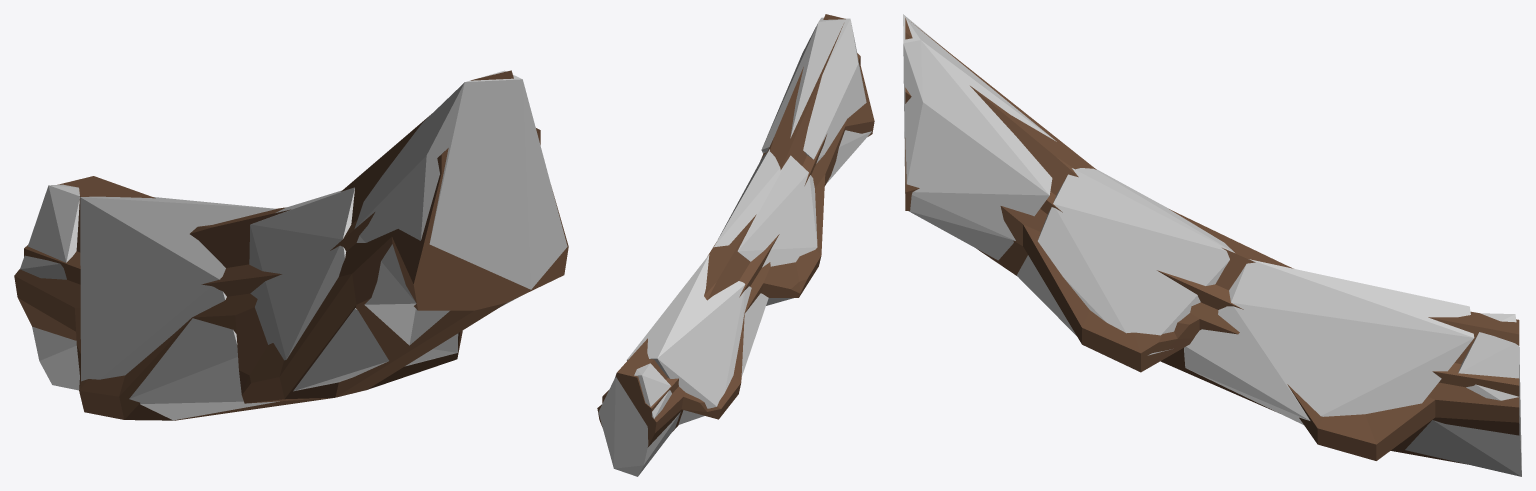
File: SM_Bld_Roof_Cap_Straight_Wood_Peak_01.fbx
The picture shows the model from 3 angles, left to right: view 1: azimuth 30°, elevation 25°; view 2: azimuth 150°, elevation 25°; view 3: azimuth 270°, elevation 25°; orthographic projection. The views are drawn at different scales.
Parts seen in each view (by area): view 1: SM_Bld_Roof_Cap_Straight_Wood_Peak_01_ConvexHulls, SM_Bld_Roof_Cap_Straight_Wood_Peak_01; view 2: SM_Bld_Roof_Cap_Straight_Wood_Peak_01_ConvexHulls, SM_Bld_Roof_Cap_Straight_Wood_Peak_01; view 3: SM_Bld_Roof_Cap_Straight_Wood_Peak_01_ConvexHulls, SM_Bld_Roof_Cap_Straight_Wood_Peak_01.
Boxes of the visible parts, x1,y1,x2,y2 form: SM_Bld_Roof_Cap_Straight_Wood_Peak_01_ConvexHulls: (20, 70, 567, 420); SM_Bld_Roof_Cap_Straight_Wood_Peak_01: (14, 70, 568, 420); SM_Bld_Roof_Cap_Straight_Wood_Peak_01_ConvexHulls: (598, 17, 872, 476); SM_Bld_Roof_Cap_Straight_Wood_Peak_01: (597, 14, 874, 447); SM_Bld_Roof_Cap_Straight_Wood_Peak_01_ConvexHulls: (903, 14, 1521, 476); SM_Bld_Roof_Cap_Straight_Wood_Peak_01: (905, 18, 1519, 464).
Size of the model in its own units: 63.23 by 252 by 202.
Materials: 2 (1 with a texture image).
